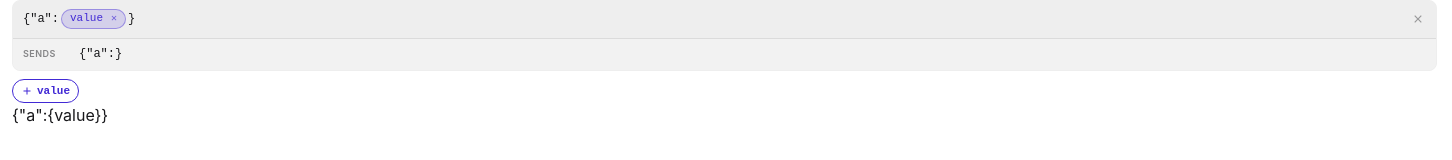
Test: a payload that spells the chip out › removes a chip when clicking its inline remove button
Press the mouse on the button "✕" at (114, 19), box [107, 12, 121, 26]
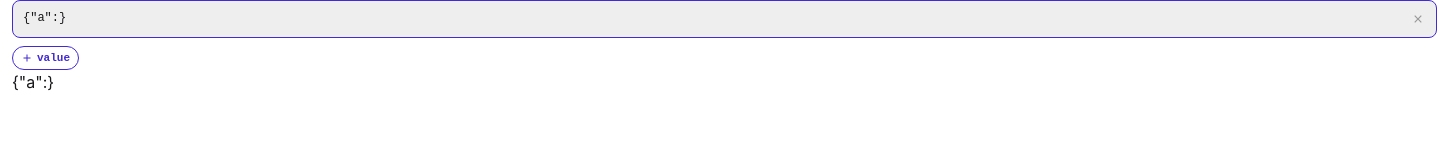
Expected: the field reads "{\"a\":}", [23, 11, 66, 25]
